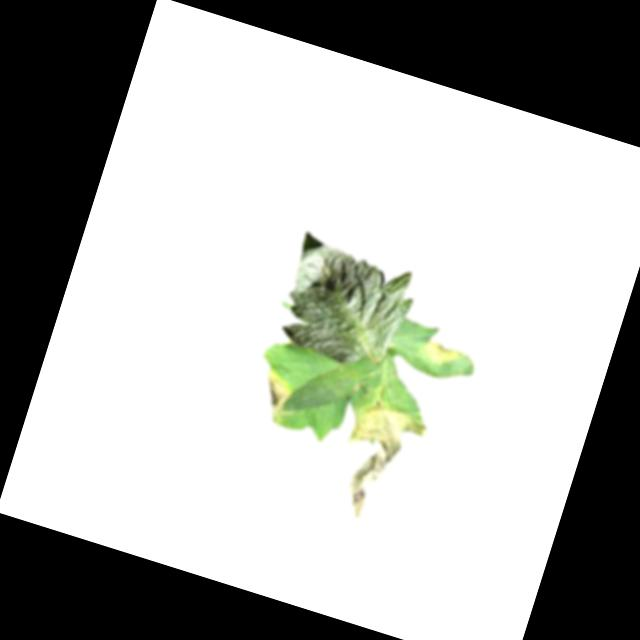Late_blight: (324, 396, 433, 534), (252, 369, 301, 426), (416, 331, 465, 374)
healthy: (271, 230, 424, 378)
